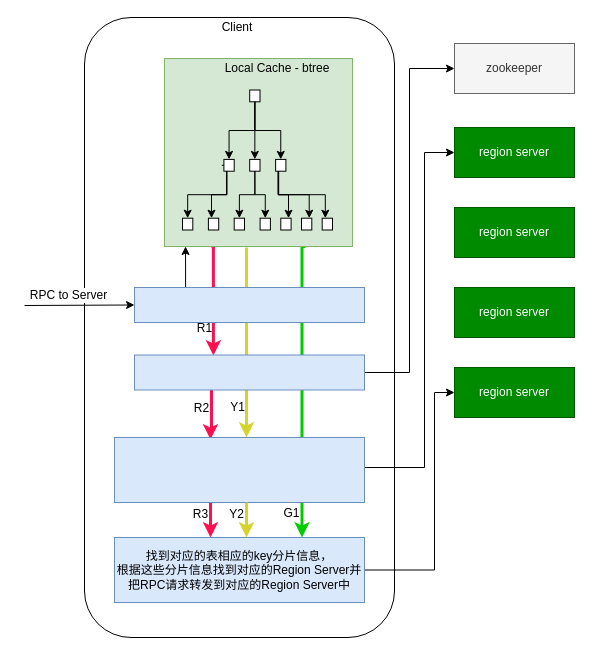
Image size: 592x655. Some labels were removed from this diagram. Each missing label, with the centre of its shape:
根据参数中的表名和key，先从本地缓存中找到是否有对应的Region Server: (249,304)
没有Region Server信息，先去Zookeeper服务器上查找Region Server: (249,372)
没有找到对应的表相应的key分片信息， 根据Zookeeper中的信息找到存放表分片信息的Region Server获取对应的Region信息: (239,469)
